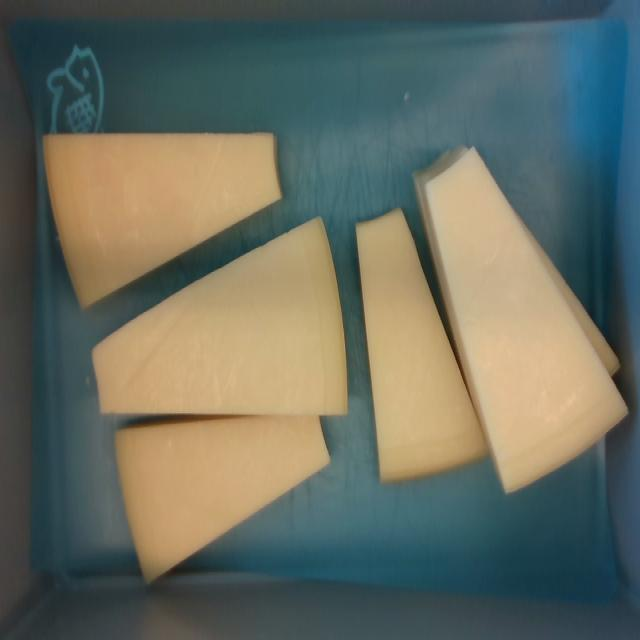Cheese: (424, 147, 629, 493), (91, 217, 349, 414), (44, 135, 280, 305), (112, 415, 332, 580), (355, 209, 488, 477)
